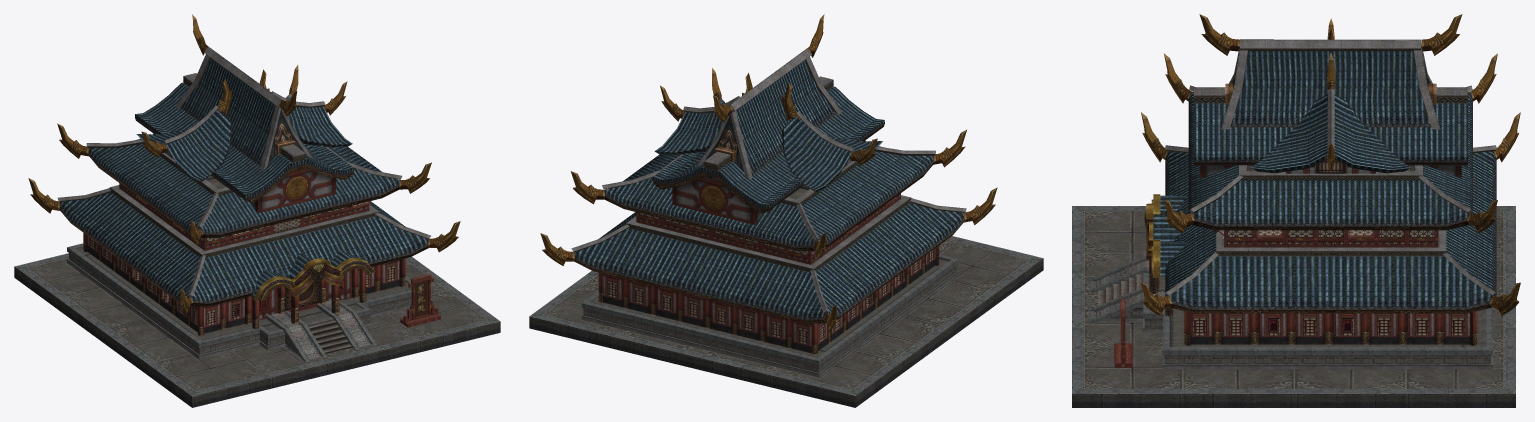
3 renders of one model, left to right at view 1: azimuth 30°, elevation 25°; view 2: azimuth 150°, elevation 25°; view 3: azimuth 270°, elevation 25°, orthographic. The views are drawn at different scales.
Parts seen in each view (by area): view 1: g_38; view 2: g_38; view 3: g_38.
Part boxes in pixels (x1=…): g_38: x1=14, y1=14, x2=500, y2=407; g_38: x1=529, y1=14, x2=1043, y2=407; g_38: x1=1072, y1=14, x2=1520, y2=407.
Bounding box in the file's own units: 19.99 × 14.96 × 20.2.
Materials: 3 (3 with a texture image).
